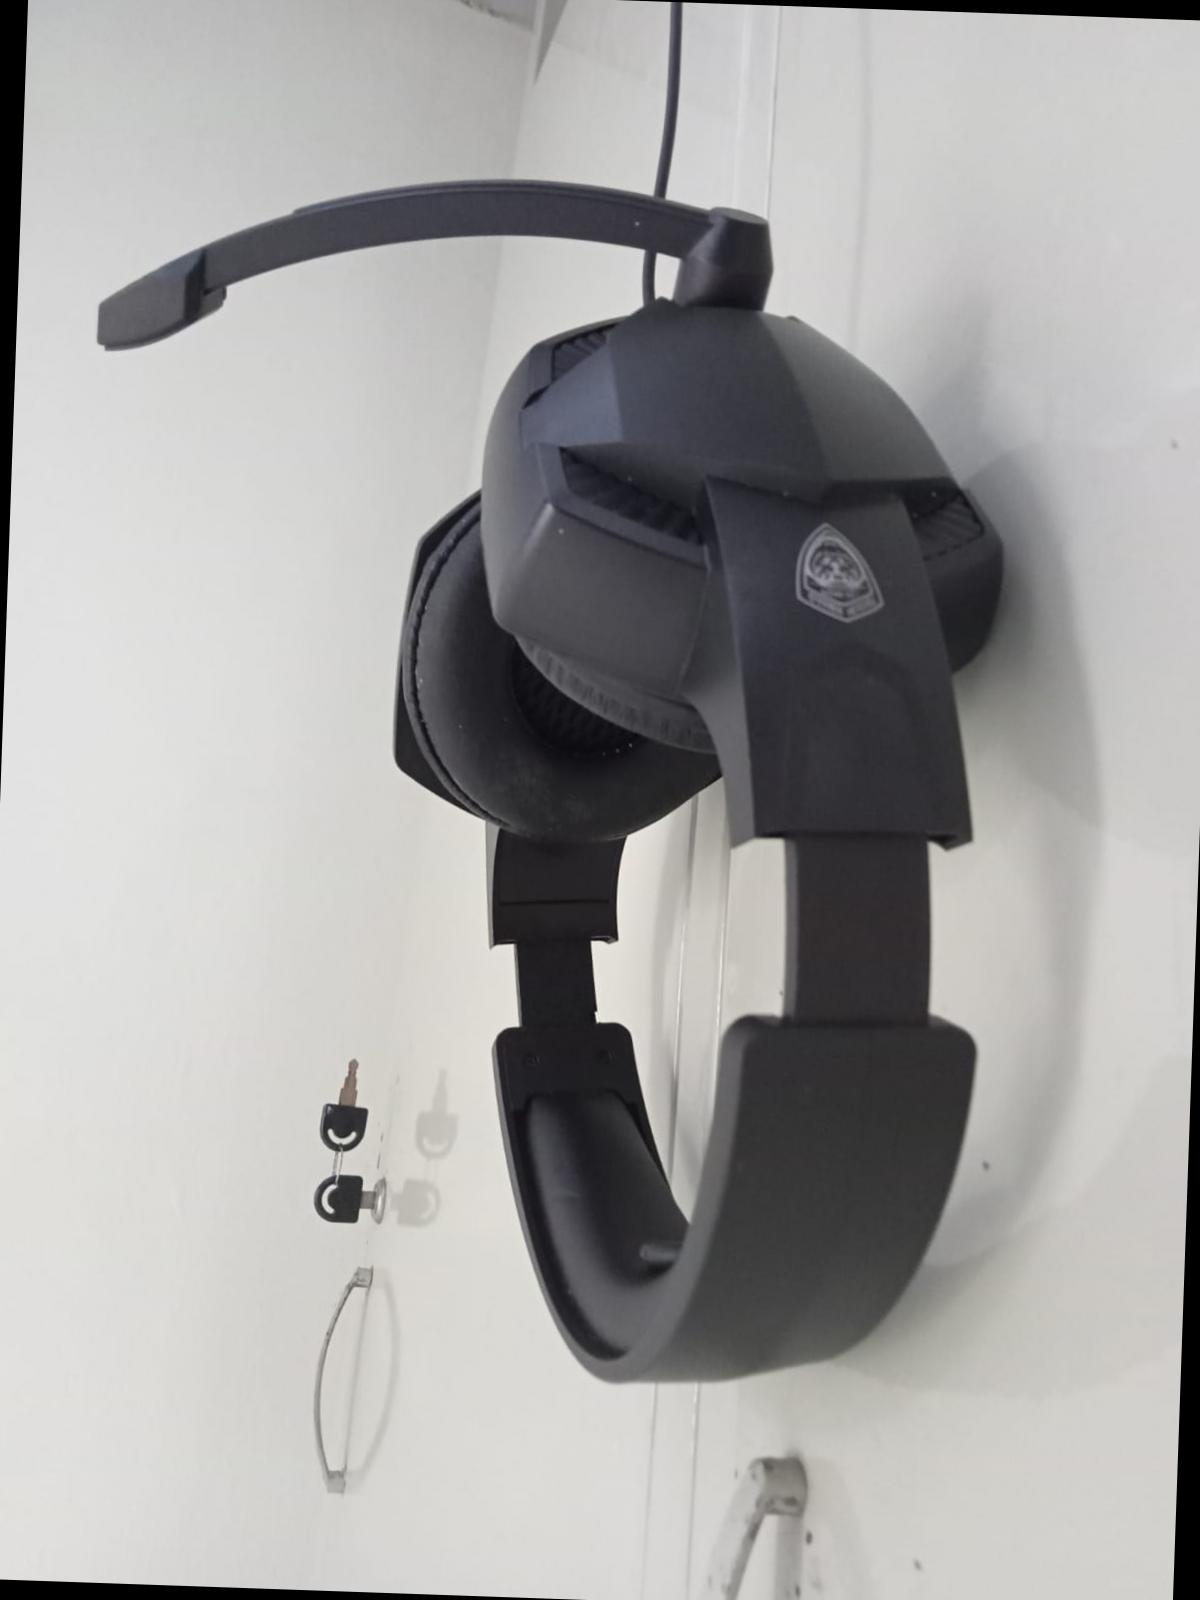Headset: (71, 161, 1029, 1421)
